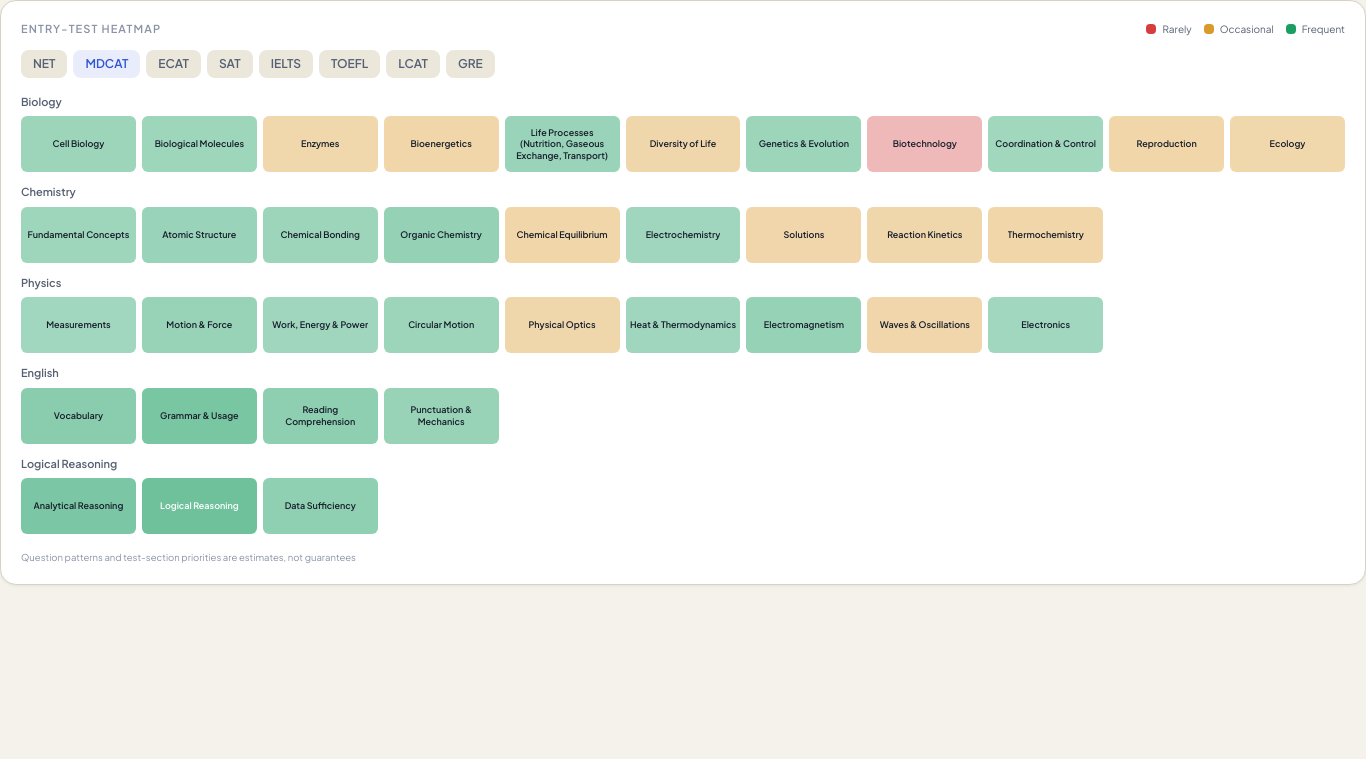
it: clicking a cell opens the detail panel
Click the button titled "Cell Biology — Biology". click: {"x": 78, "y": 144}
box: [21,116,136,172]
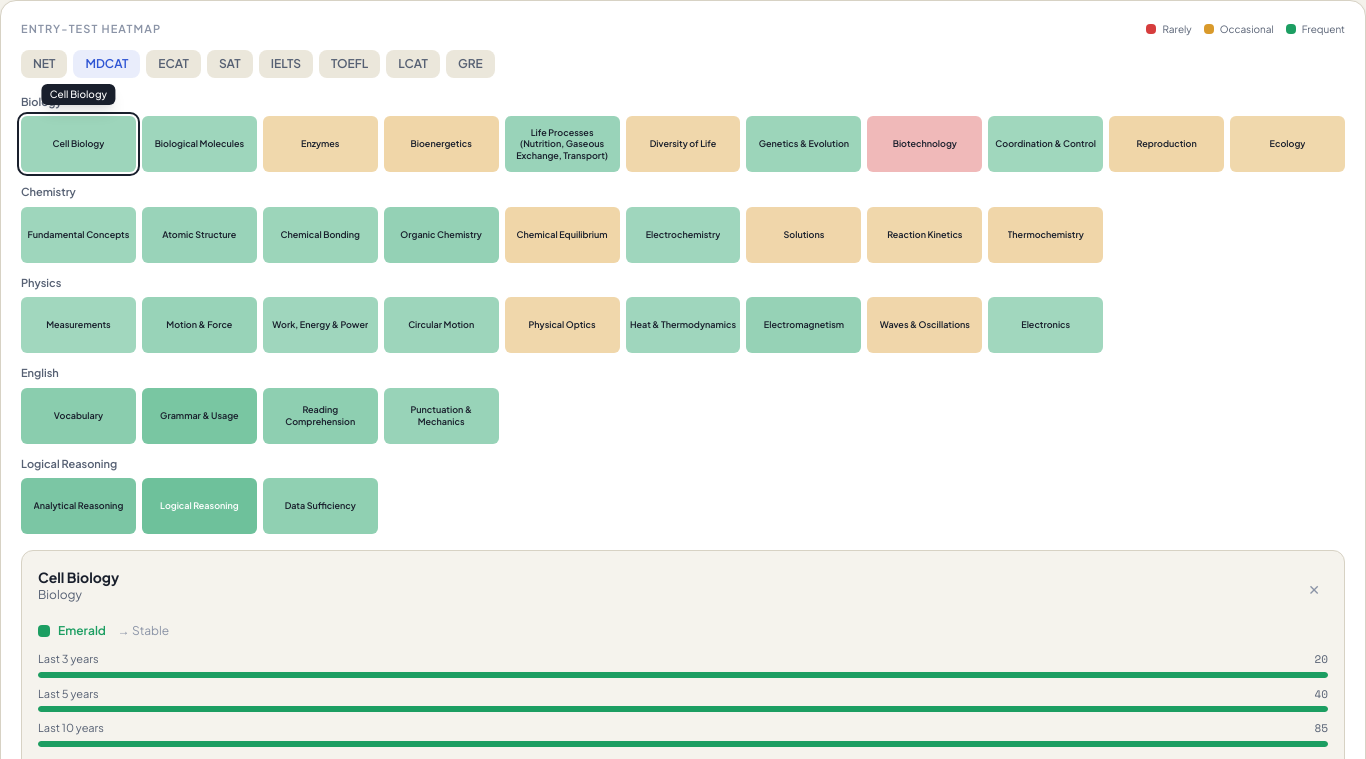
Expected: the text "Last 3 years" is shown, [38,651,98,668]
